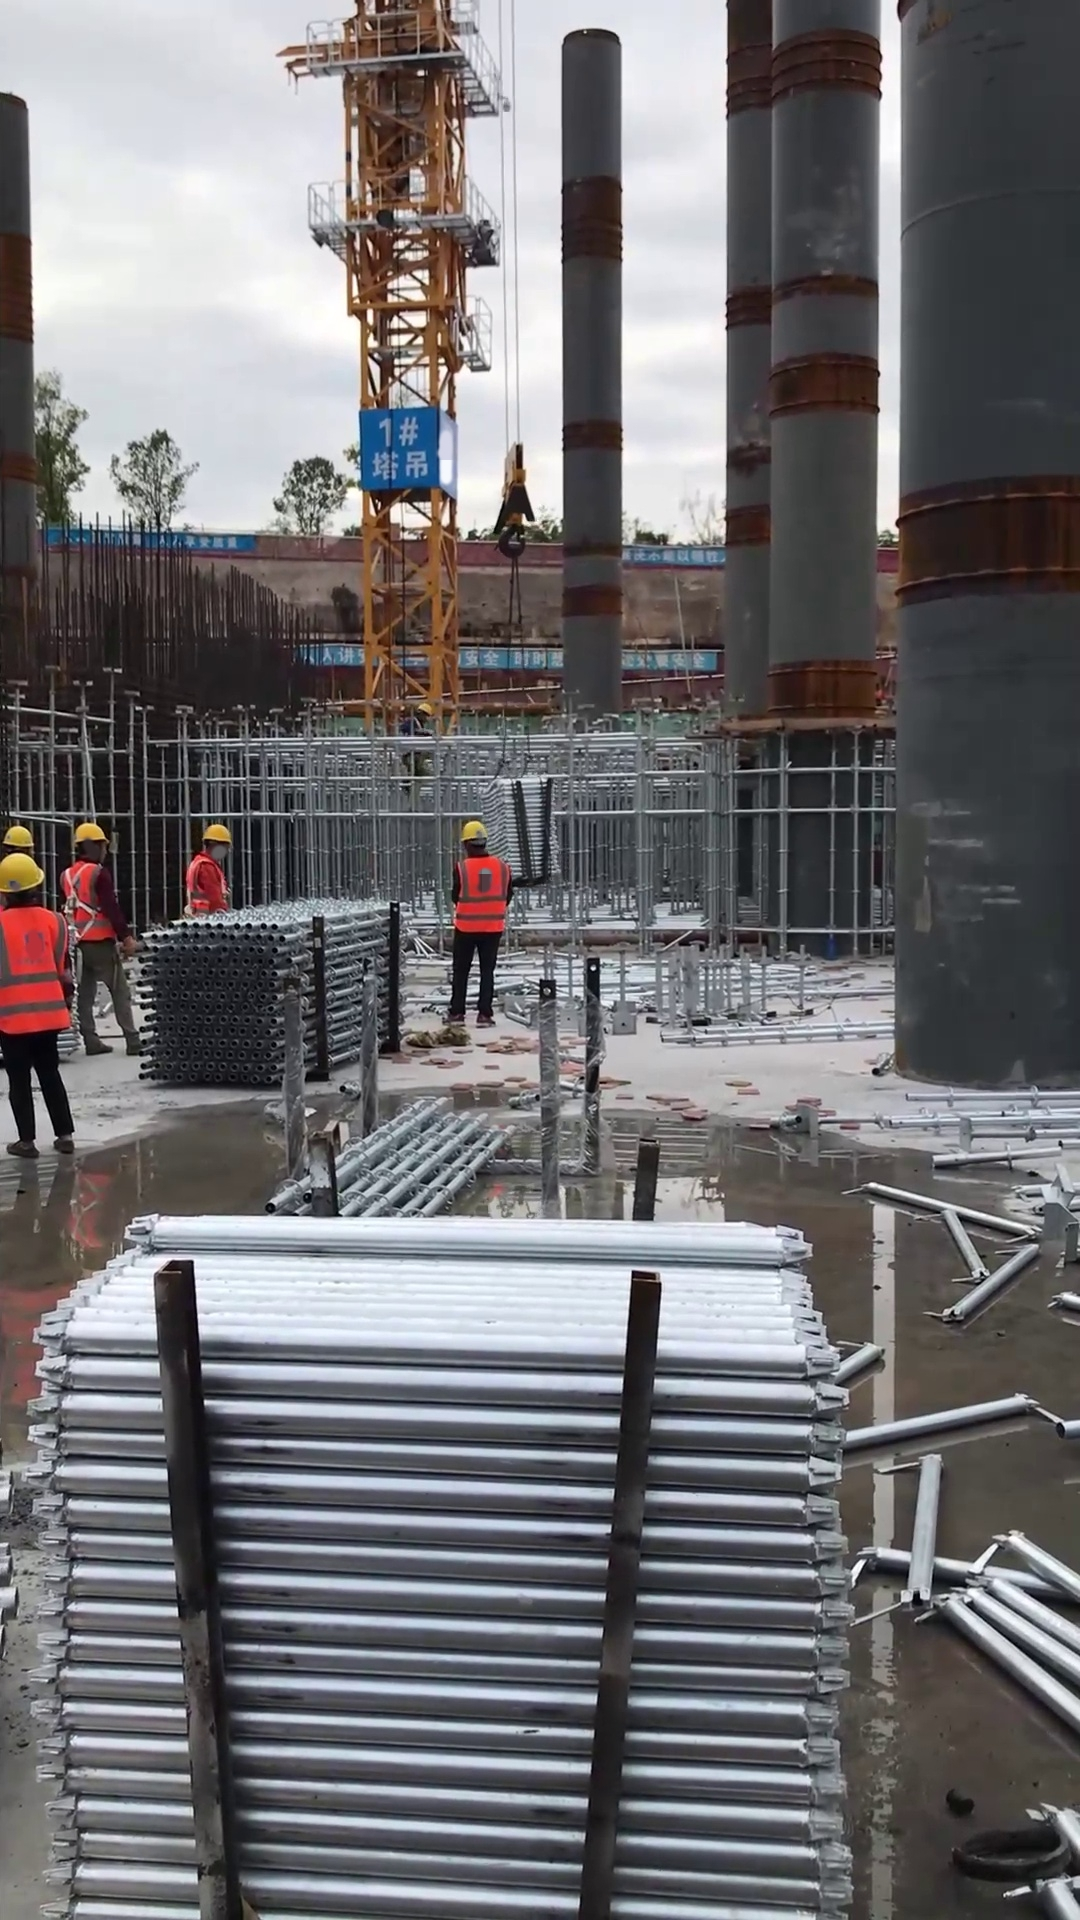helmet: (1, 851, 47, 895), (73, 819, 112, 849), (2, 822, 37, 849), (200, 822, 235, 849), (458, 819, 489, 846), (415, 701, 432, 717)
hook: (491, 440, 534, 562)
person: (1, 850, 78, 1161), (59, 819, 156, 1055), (444, 818, 515, 1028), (185, 821, 235, 914), (396, 700, 433, 794)
scaffold: (31, 1210, 858, 1920), (134, 894, 418, 1084), (262, 1095, 514, 1216), (481, 775, 560, 887)
slogan: (298, 641, 564, 668), (363, 408, 442, 488), (58, 525, 250, 553), (620, 648, 717, 675), (621, 545, 730, 564)
vest: (1, 905, 72, 1036), (59, 857, 118, 944), (452, 855, 511, 934), (186, 852, 230, 914)
